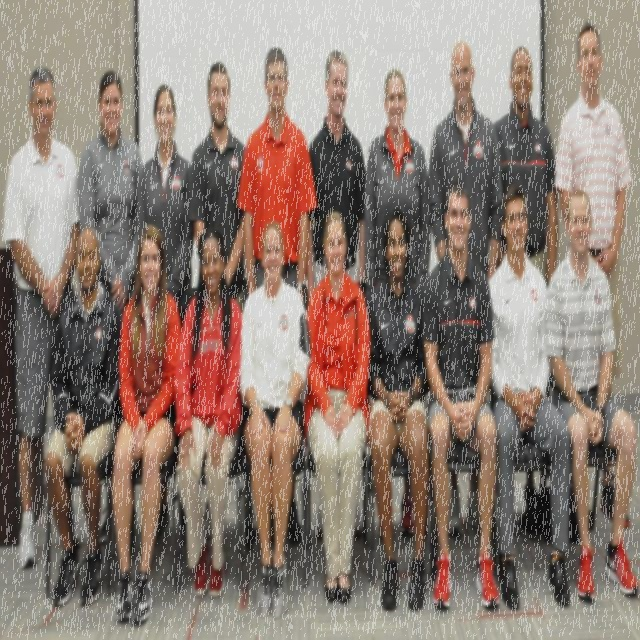pessoa: (552, 15, 636, 534), (0, 62, 84, 572), (236, 47, 318, 546), (484, 178, 574, 614), (545, 190, 639, 602), (428, 38, 503, 542), (420, 176, 502, 617), (74, 62, 146, 548), (235, 220, 314, 624), (42, 225, 123, 616), (494, 46, 559, 524), (301, 206, 374, 606), (110, 222, 182, 624), (172, 225, 246, 604), (366, 206, 433, 616), (363, 67, 432, 308), (306, 47, 366, 310), (189, 61, 254, 298), (138, 83, 195, 326)
